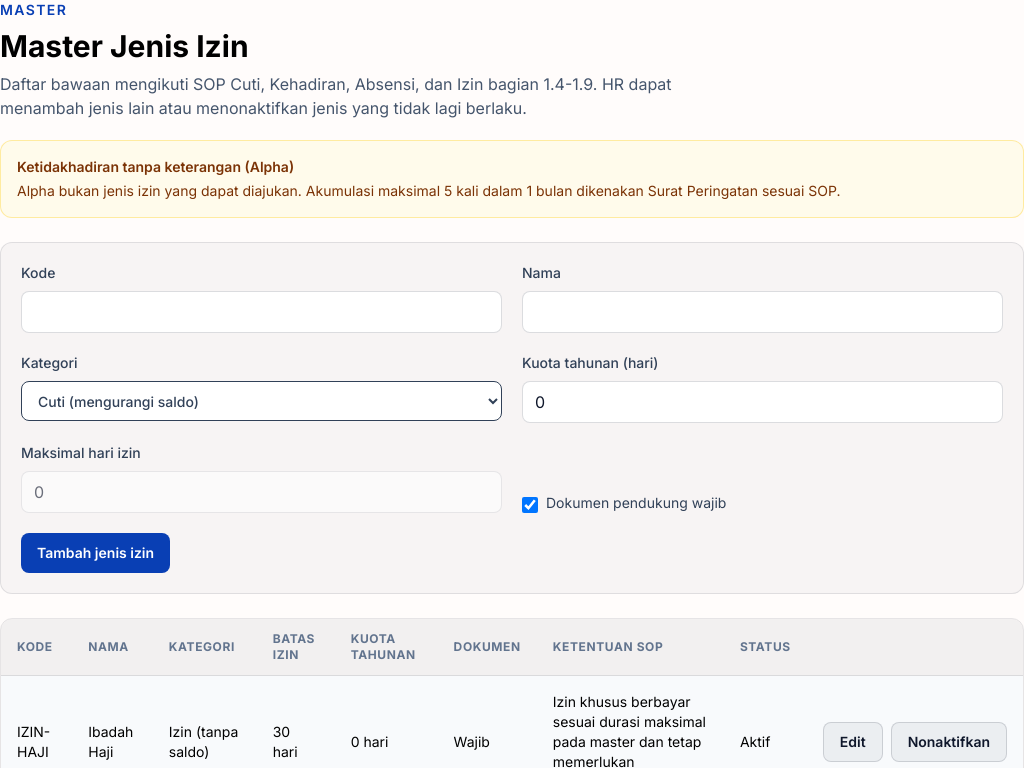
Test: LeaveTypesPage › explains immutable identifiers and rejects a zero maximum
Click the button named "Edit Ibadah Haji".
click(853, 742)  # box [823,722,883,762]
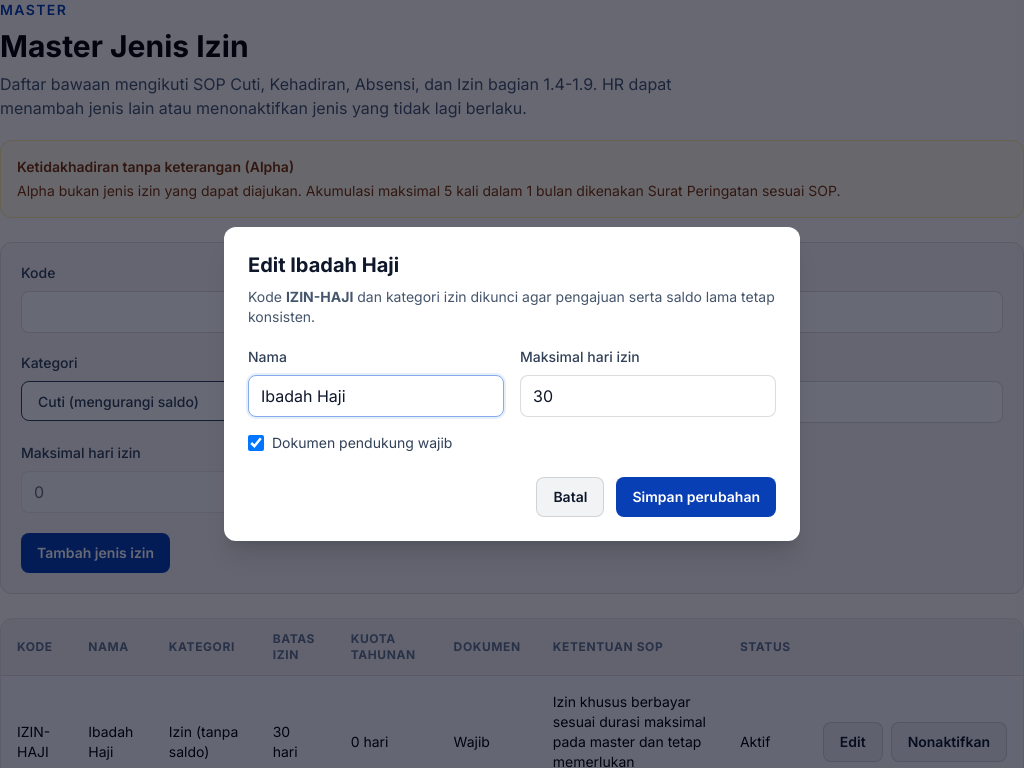
Expected: the dialog "Edit Ibadah Haji" shows "Kode IZIN-HAJI dan kategori izin dikunci", [224,227,800,541]
Replace the text in the number field labelled "Maksimal hari izin" with "0" at (648, 396), box [520,375,776,417]
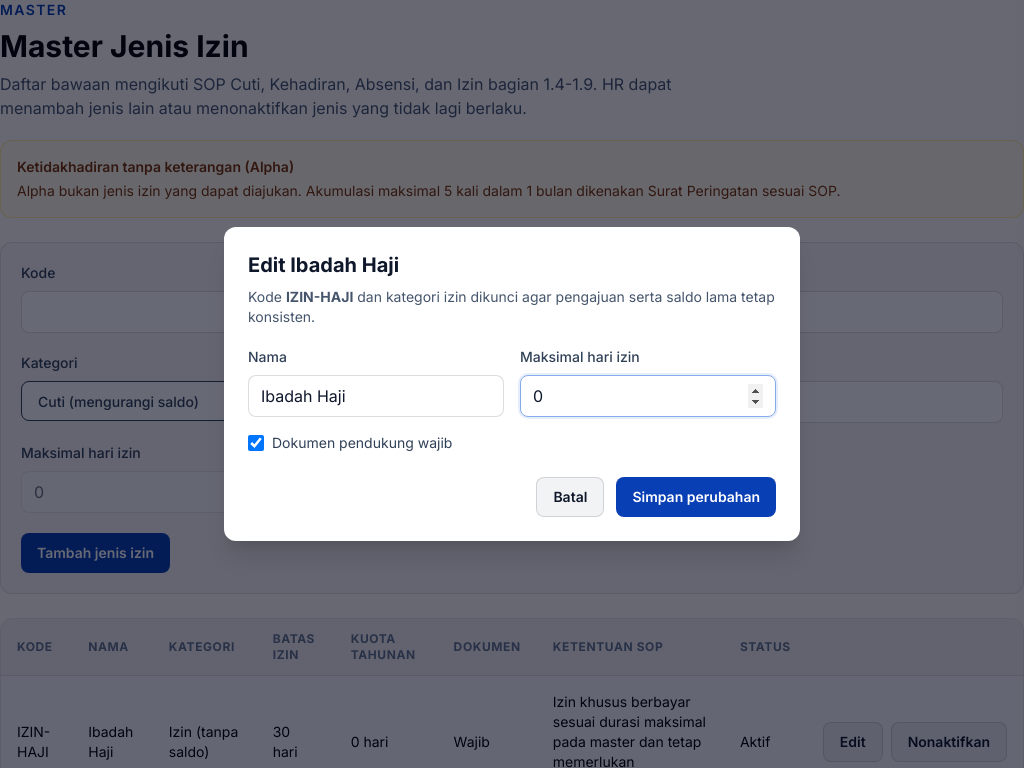
Click the button "Simpan perubahan".
click(696, 497)  # box [616,477,776,517]
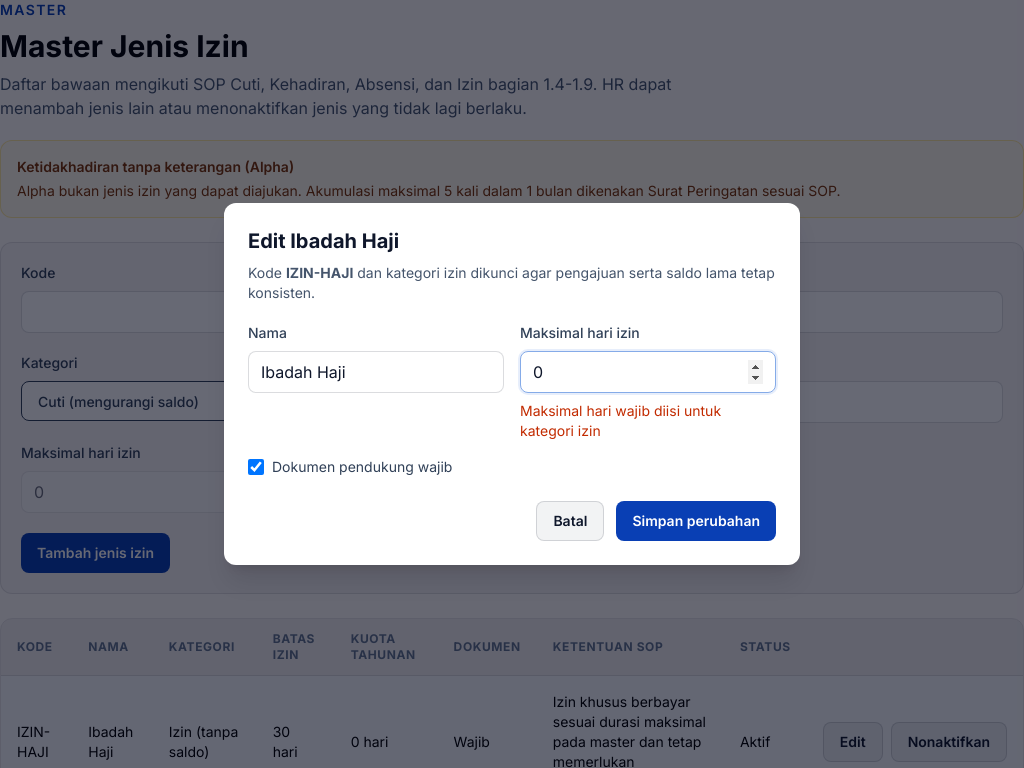
Expected: the text "Maksimal hari wajib diisi untuk kategori izin" is shown, [520,402,721,439]
